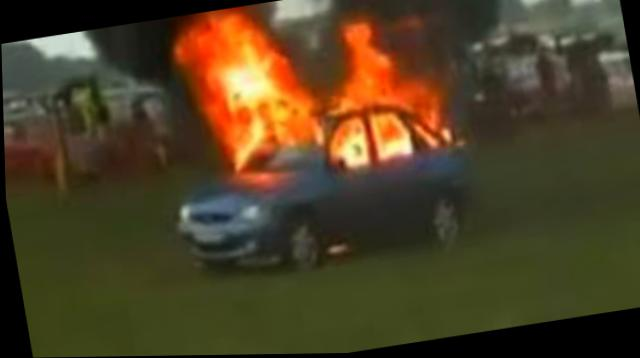fire: (161, 0, 344, 186), (294, 0, 473, 162)
